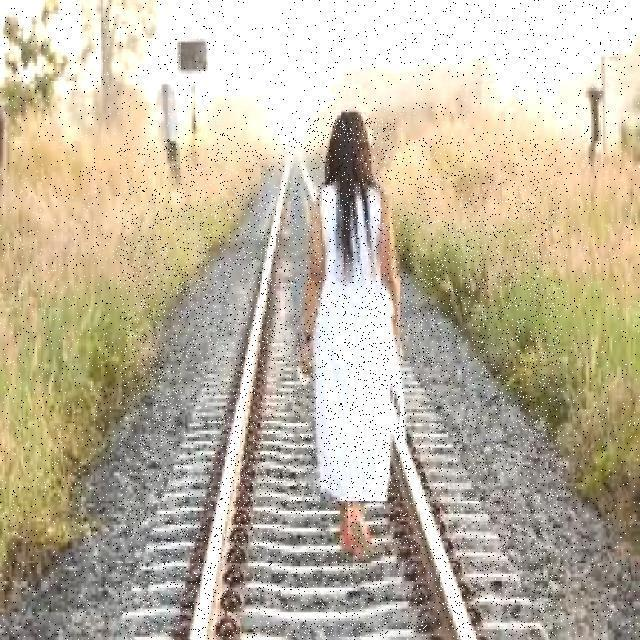danger: (306, 118, 396, 553)
rail: (121, 139, 562, 640)
